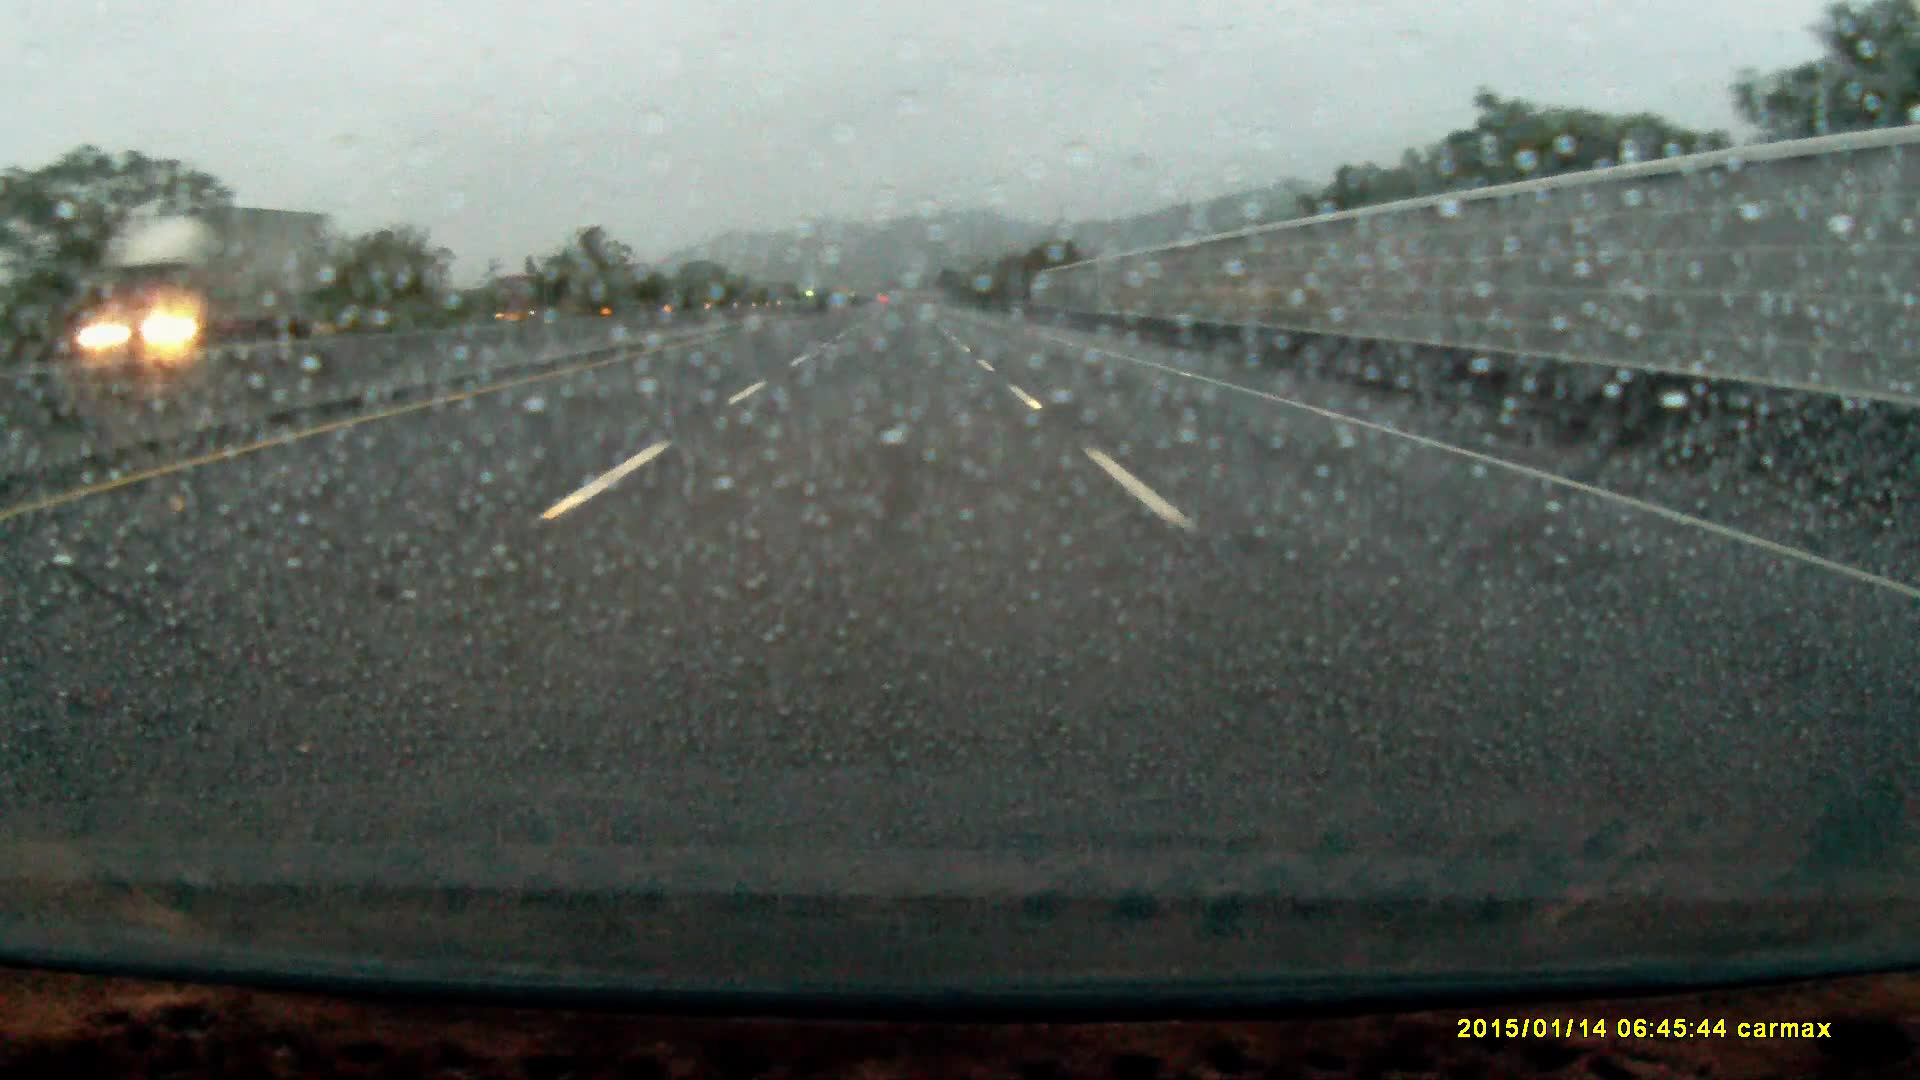vehicle: (75, 211, 328, 375), (497, 284, 589, 323)
